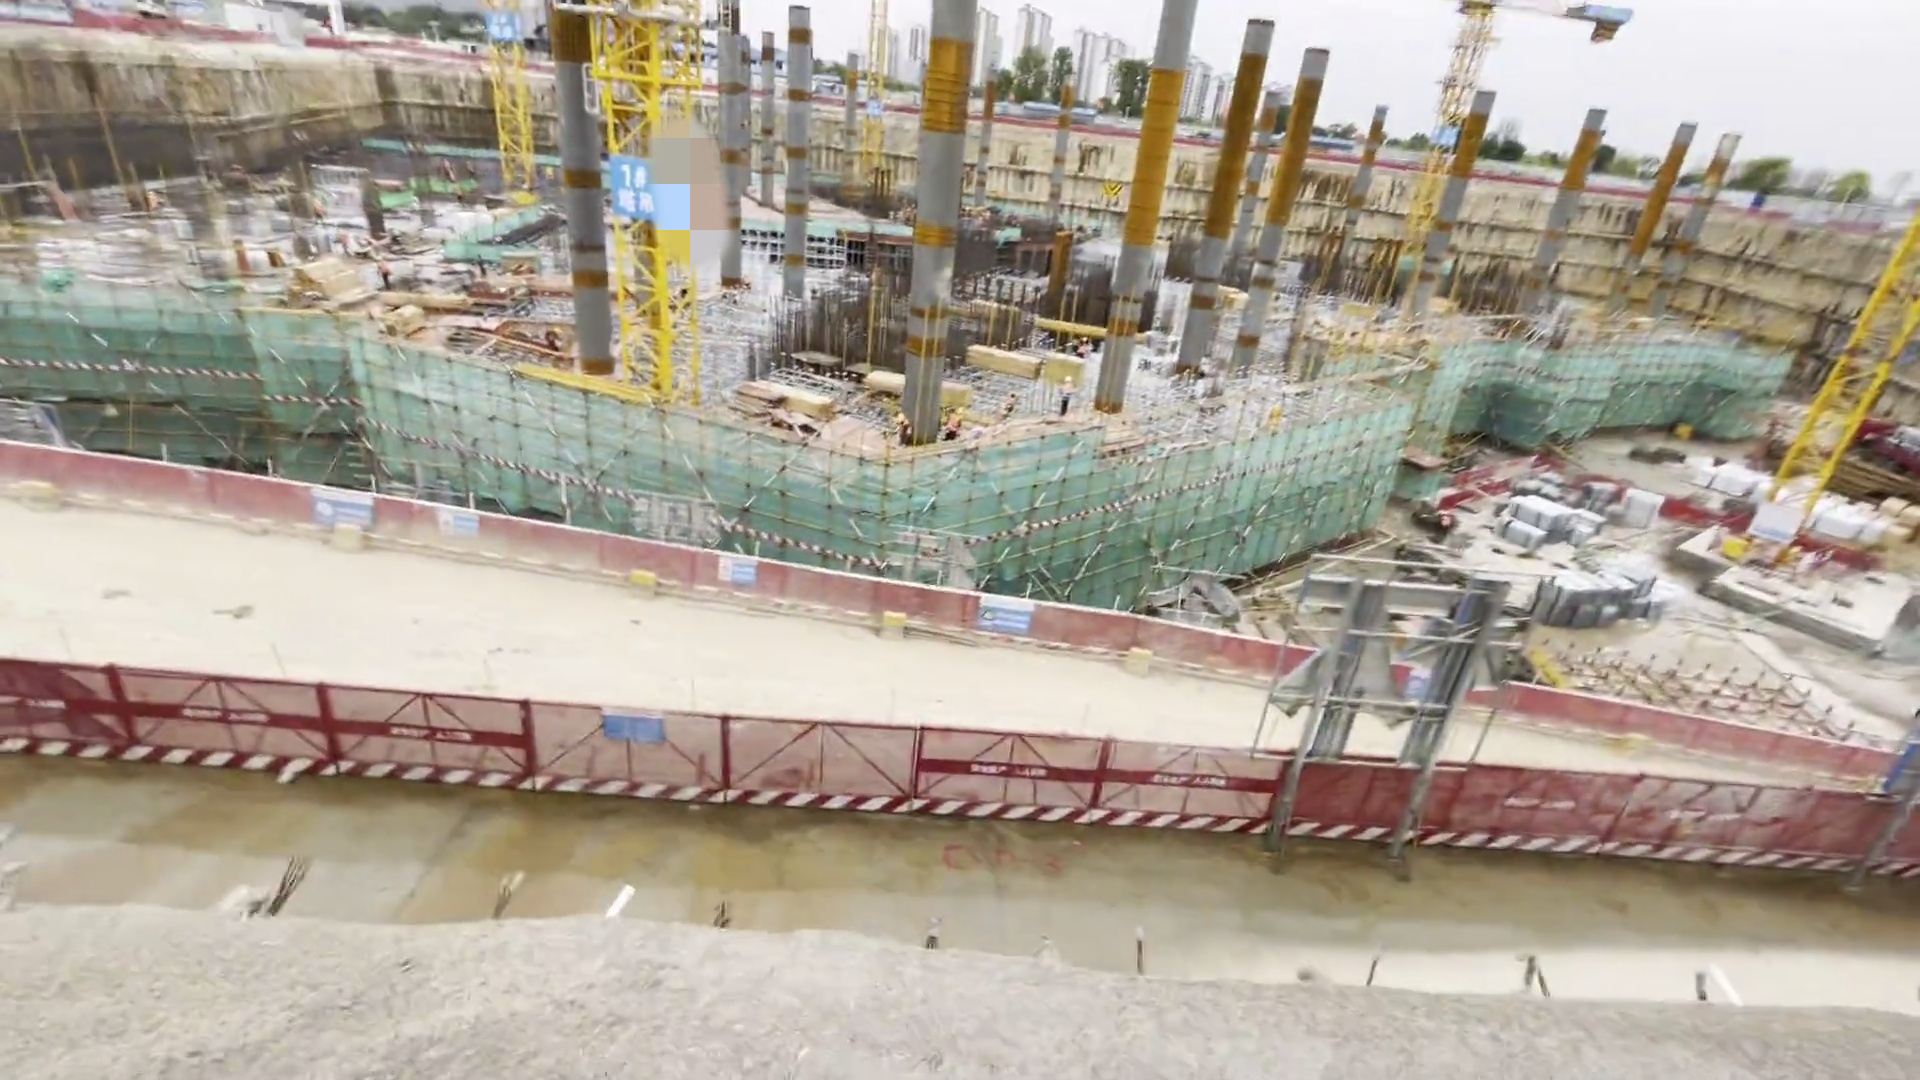fence: (47, 442, 1919, 957)
slogan: (295, 468, 477, 553), (593, 682, 715, 795), (967, 575, 1051, 653), (717, 537, 793, 617)
